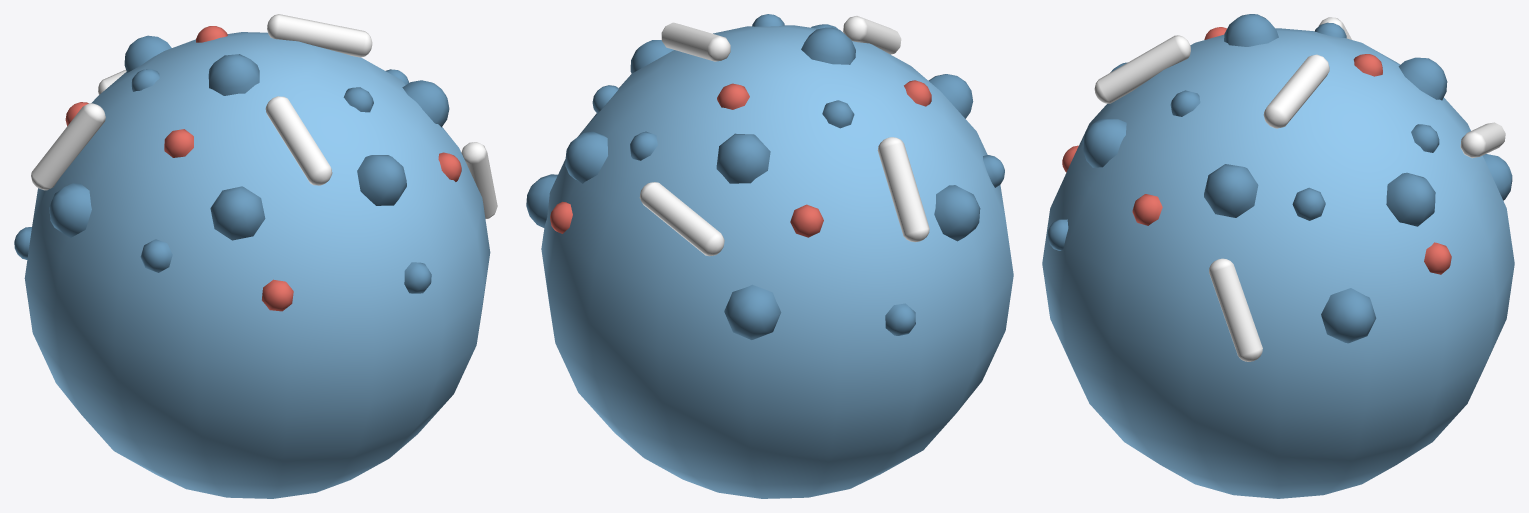
File: SM_cakepop2.fbx
The picture shows the model from 3 angles, left to right: view 1: azimuth 30°, elevation 25°; view 2: azimuth 150°, elevation 25°; view 3: azimuth 270°, elevation 25°; orthographic projection.
Visible parts, largest first — view 1: SM_cakepop2; view 2: SM_cakepop2; view 3: SM_cakepop2.
Part boxes in pixels (box(x1,y1,x2,y2)): SM_cakepop2: box(14, 14, 497, 498); SM_cakepop2: box(526, 14, 1013, 498); SM_cakepop2: box(1042, 14, 1514, 498).
Size of the model in its own units: 175 by 173 by 167.
